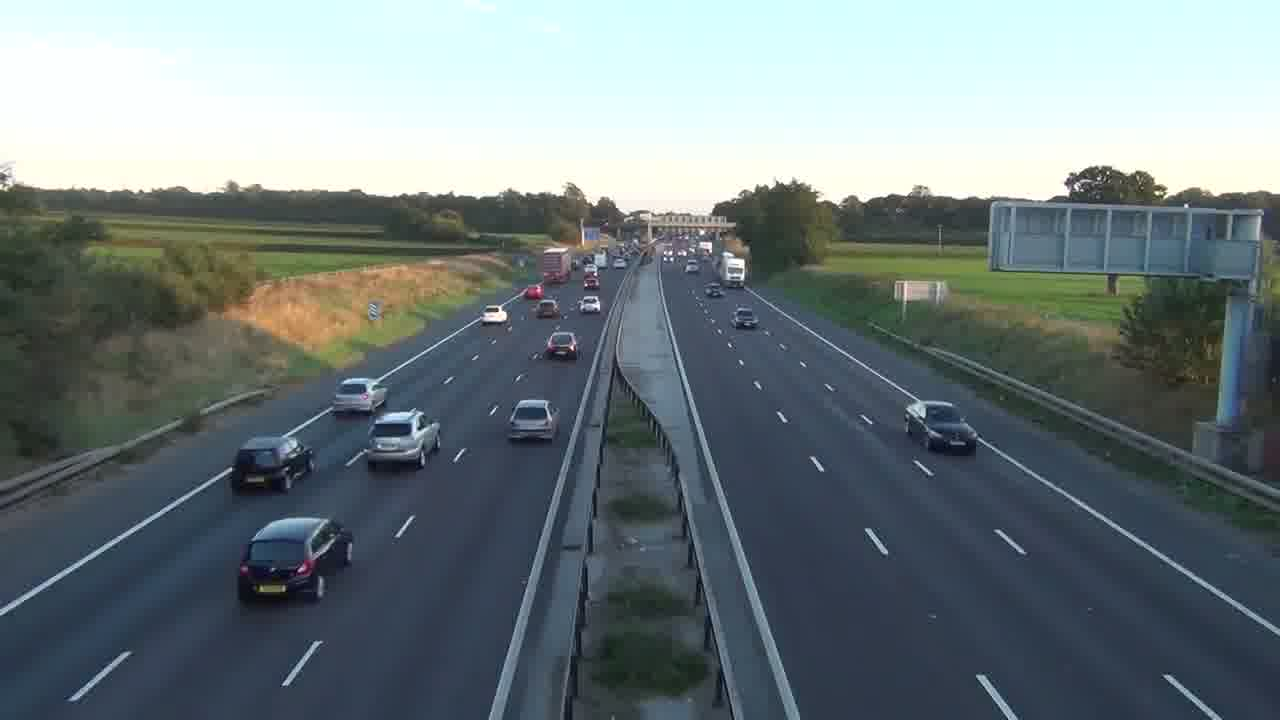car: (237, 515, 354, 601), (231, 432, 314, 494), (366, 408, 441, 469), (904, 399, 978, 454), (507, 398, 560, 441), (332, 377, 389, 416), (546, 330, 579, 359), (731, 305, 758, 329), (538, 298, 561, 320)
truck: (721, 252, 746, 287)
